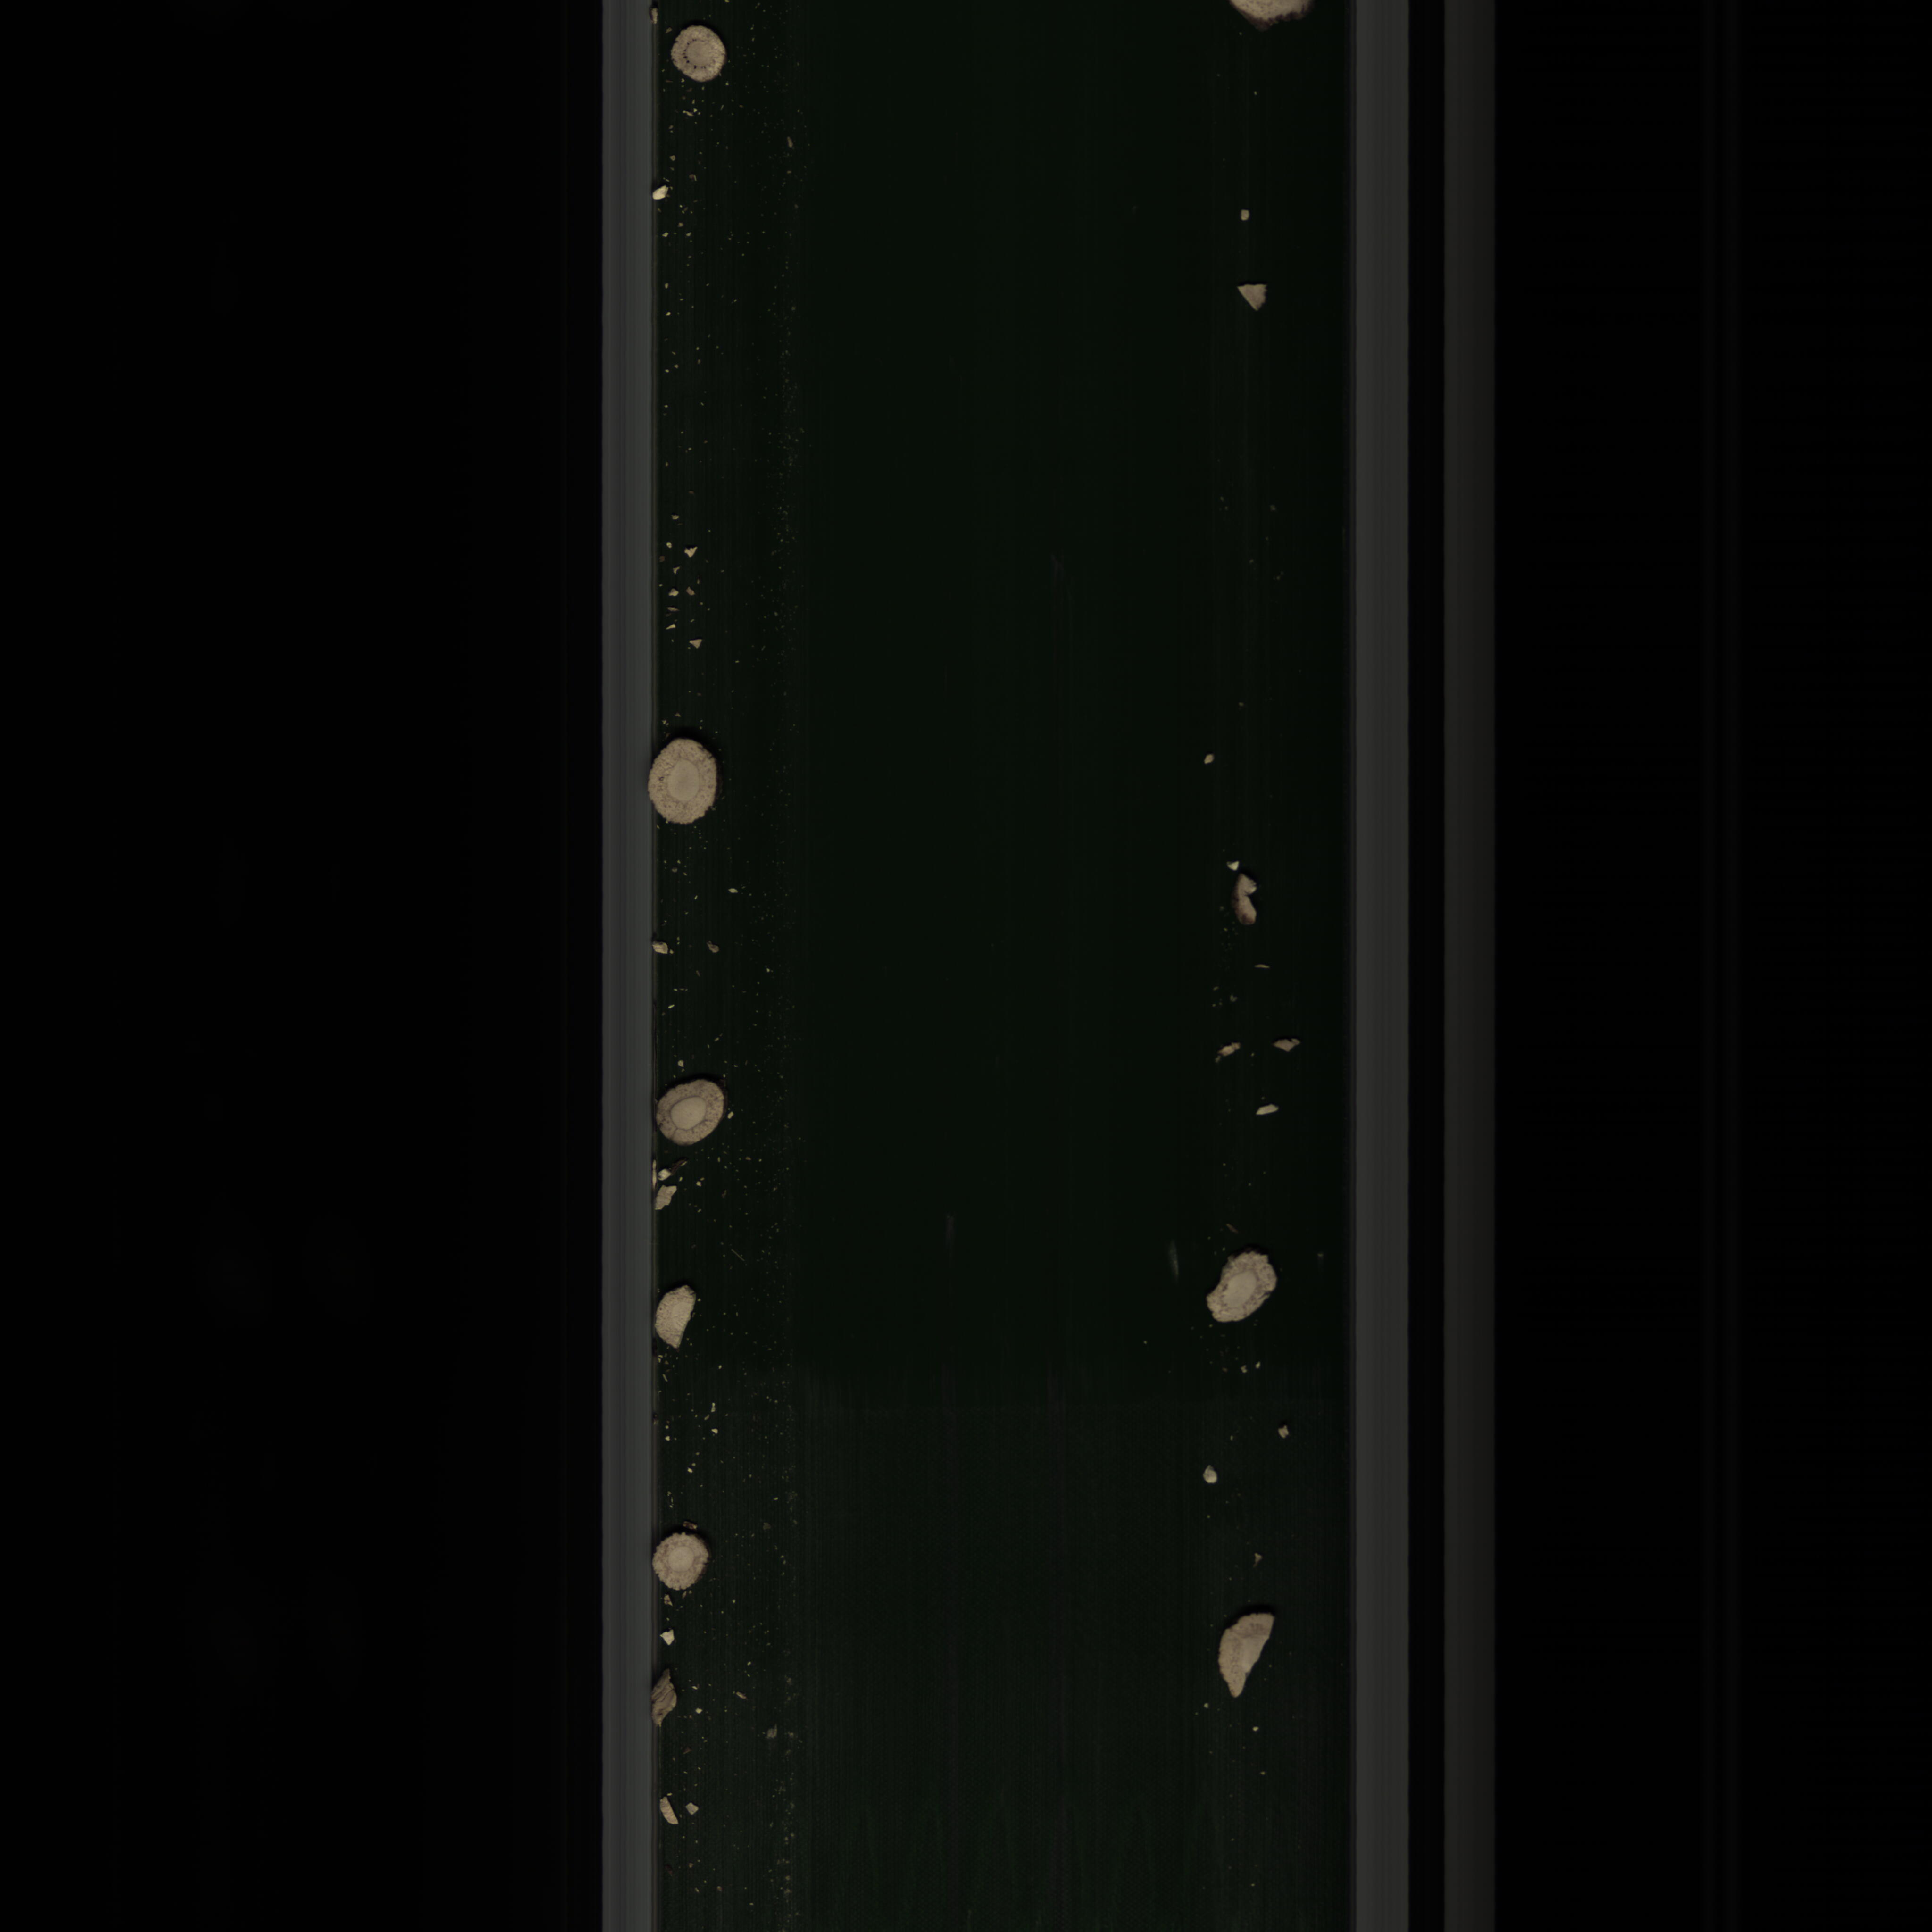debris: (1210, 1612, 1288, 1709), (1207, 1242, 1283, 1330), (651, 1281, 704, 1361), (1219, 851, 1270, 927), (646, 1663, 690, 1730), (1230, 280, 1281, 313), (1207, 1033, 1247, 1065), (655, 1184, 685, 1215), (1244, 1100, 1281, 1123), (1274, 1031, 1306, 1054)
